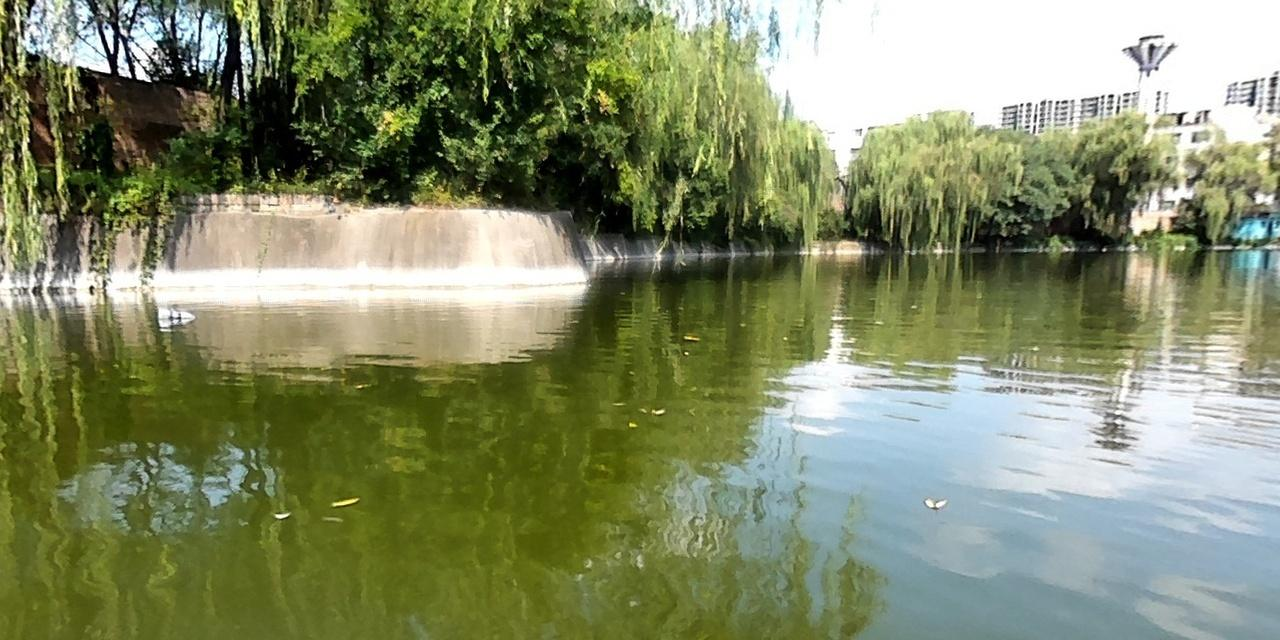bottle: (154, 305, 198, 321)
